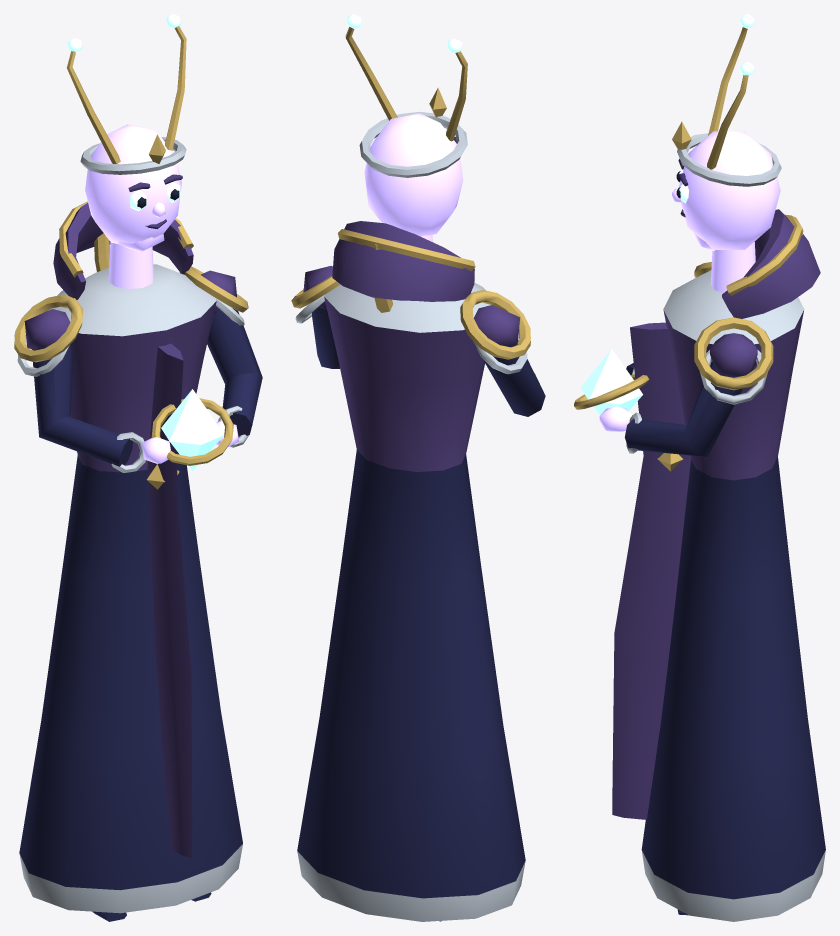
Rendered from npc_soul_celestial.glb.
The picture shows the model from 3 angles, left to right: view 1: azimuth 30°, elevation 25°; view 2: azimuth 150°, elevation 25°; view 3: azimuth 270°, elevation 25°; orthographic projection. The views are drawn at different scales.
Parts seen in each view (by area): view 1: npc_soul_celestial; view 2: npc_soul_celestial; view 3: npc_soul_celestial.
Boxes of the visible parts, <box> form: npc_soul_celestial: <box>14,14,262,921</box>; npc_soul_celestial: <box>291,14,545,921</box>; npc_soul_celestial: <box>574,14,825,921</box>.
Bounding box in the file's own units: 0.5666 × 2.08 × 0.5578.
